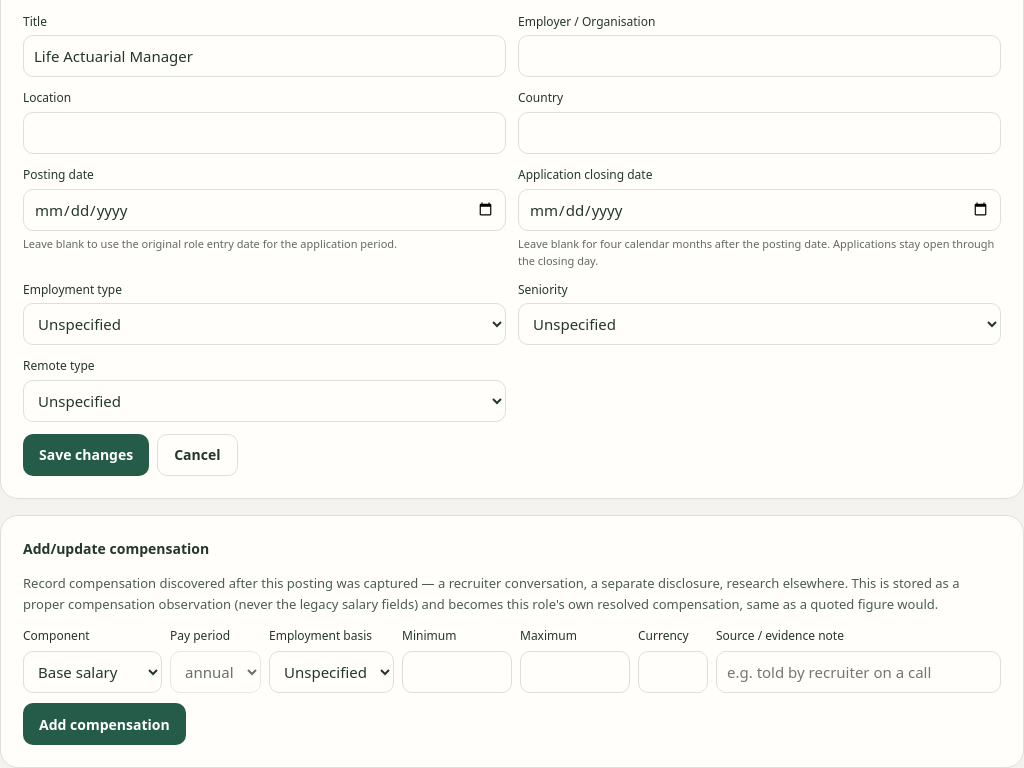
Test case: RoleEdit — Add/update compensation (Phase 3 addendum) › shows a bonus % field instead of amount fields for the bonus component
The width and height of the screenshot is (1024, 768).
(page scrolled)
Expected: the heading "Add/update compensation" is shown, [23,539,209,558]
Select "Bonus (%)" in the dropdown labelled "Component": (92,672) [23,651,162,693]
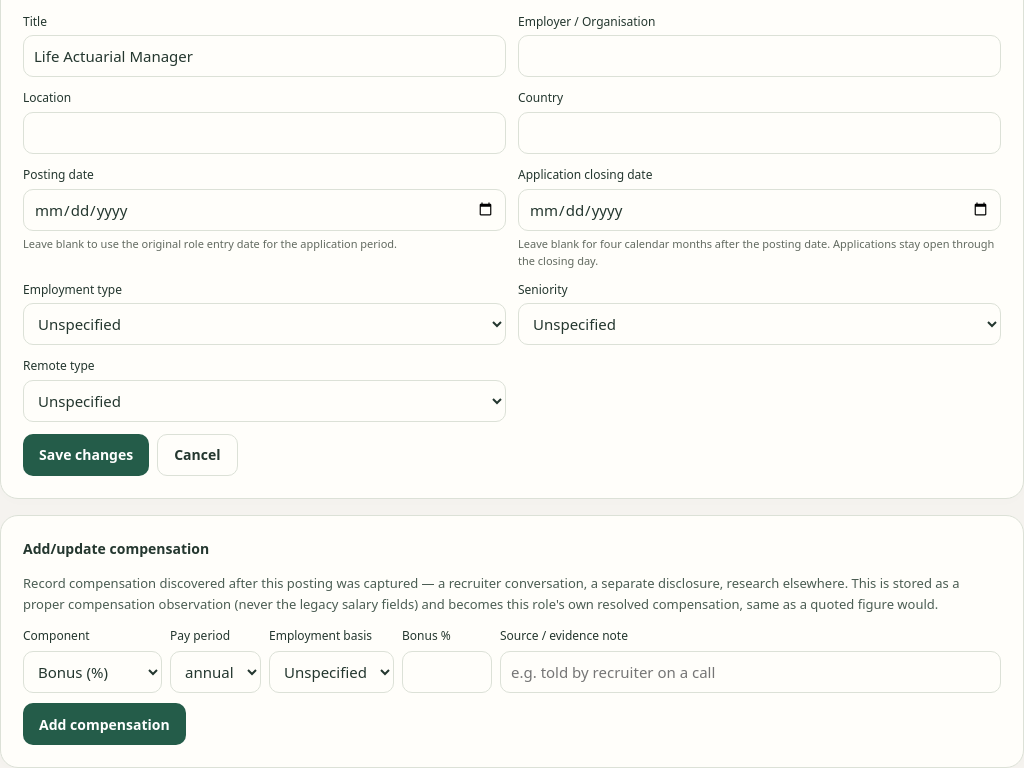
Result: the number field named "Bonus percentage" is shown at [402,651,492,693]
